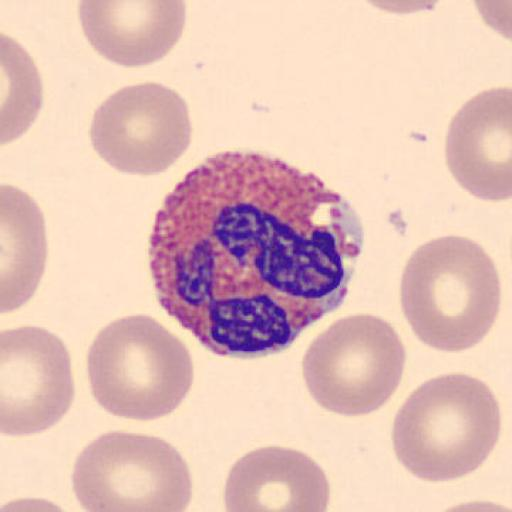RBC: (397, 232, 502, 355), (390, 370, 503, 484), (84, 311, 195, 422), (301, 312, 407, 419), (71, 429, 194, 512), (88, 80, 192, 178), (2, 324, 76, 438), (443, 84, 512, 203), (223, 443, 332, 512), (78, 1, 188, 68), (1, 181, 50, 315), (2, 32, 44, 146), (352, 0, 454, 17), (471, 0, 512, 42), (0, 493, 82, 512), (424, 498, 512, 512)
WBC: (144, 155, 364, 358)
